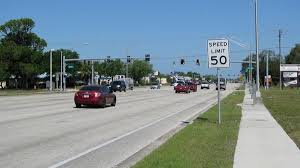speedLimit50: (207, 38, 233, 68)
